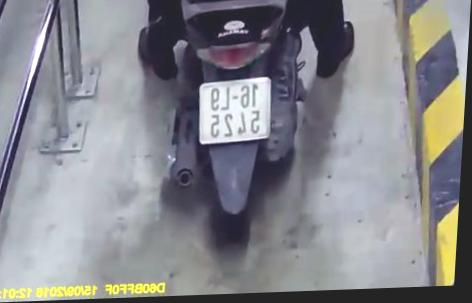License_Plate: (191, 73, 282, 152)
